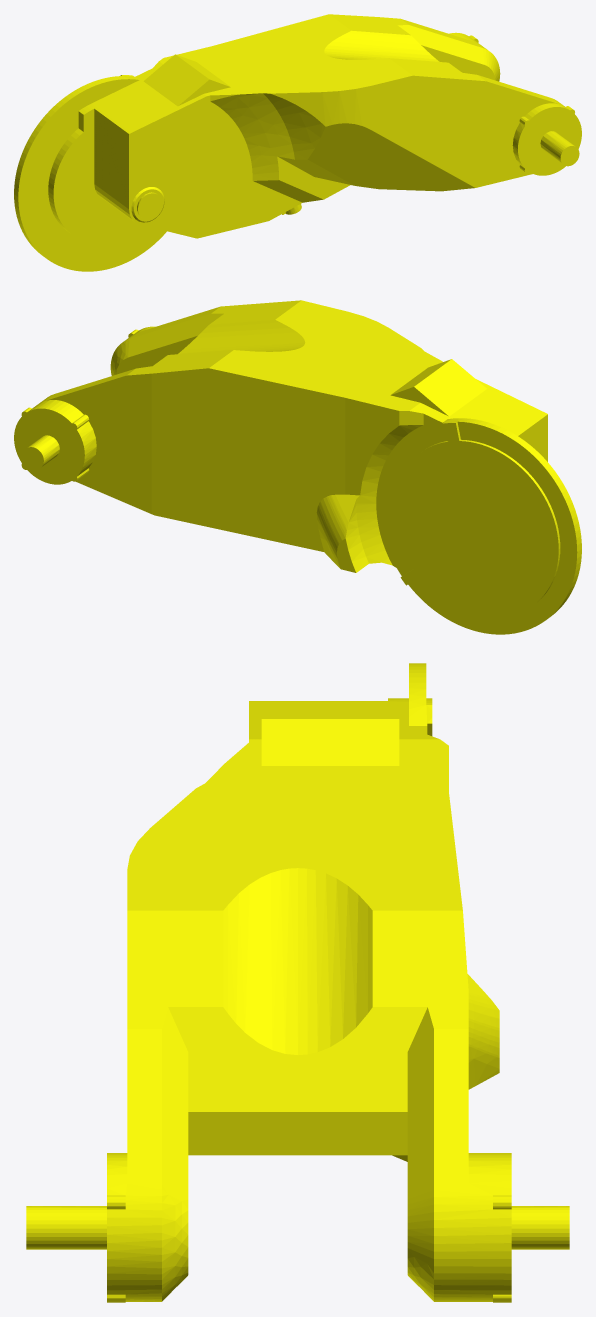
The picture shows the model from 3 angles, top to bottom: view 1: azimuth 30°, elevation 25°; view 2: azimuth 150°, elevation 25°; view 3: azimuth 270°, elevation 25°; orthographic projection. The views are drawn at different scales.
Visible parts, largest first — view 1: node; view 2: node; view 3: node.
Boxes of the visible parts, x1,y1,x2,y2 form: node: (14, 14, 581, 271); node: (14, 300, 581, 634); node: (26, 663, 569, 1302).
Size of the model in its own units: 1492 by 587 by 719.
